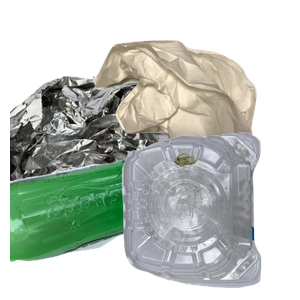glass: (10, 149, 203, 300)
metal: (10, 73, 212, 253)
plastic: (119, 130, 300, 300)
trash: (90, 38, 300, 183)
